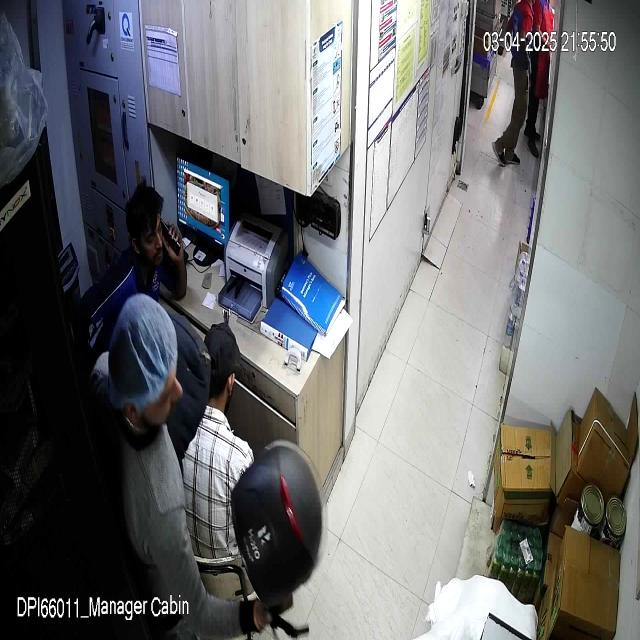helmet: (232, 439, 328, 609)
no_helmet: (107, 295, 183, 433), (125, 183, 164, 281), (204, 323, 241, 412)
